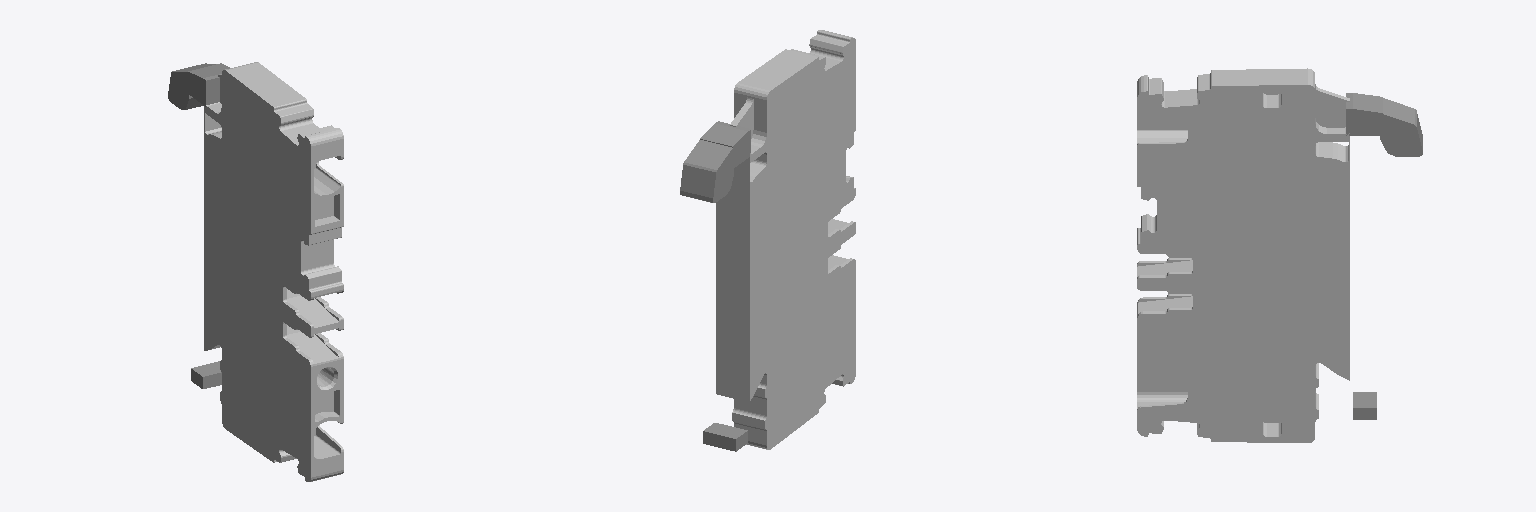
File: W_QS_Main_Coll_wo_Slider.obj
The picture shows the model from 3 angles: view 1: azimuth 30°, elevation 25°; view 2: azimuth 150°, elevation 25°; view 3: azimuth 270°, elevation 25°; orthographic projection.
Parts seen in each view (by area): view 1: Main, Lo_Lo4, Lu_Lu3, Ro_Ro5; view 2: Main, Lu_Lu3, Lo_Lo4, Ro_Ro5; view 3: Main, Lu_Lu3, Lo_Lo4, Ro_Ro5.
Boxes of the visible parts, box(x1,y1,x2,y2) form: Main: box(204, 62, 343, 481); Lo_Lo4: box(188, 63, 229, 106); Lu_Lu3: box(168, 63, 215, 109); Ro_Ro5: box(191, 361, 221, 388); Main: box(716, 30, 855, 449); Lu_Lu3: box(680, 140, 733, 202); Lo_Lo4: box(700, 121, 750, 167); Ro_Ro5: box(703, 423, 747, 451); Main: box(1137, 68, 1349, 442); Lu_Lu3: box(1380, 98, 1422, 156); Lo_Lo4: box(1346, 93, 1382, 135); Ro_Ro5: box(1353, 392, 1376, 419).
Size of the model in its own units: 0.0051 by 0.0527 by 0.038.